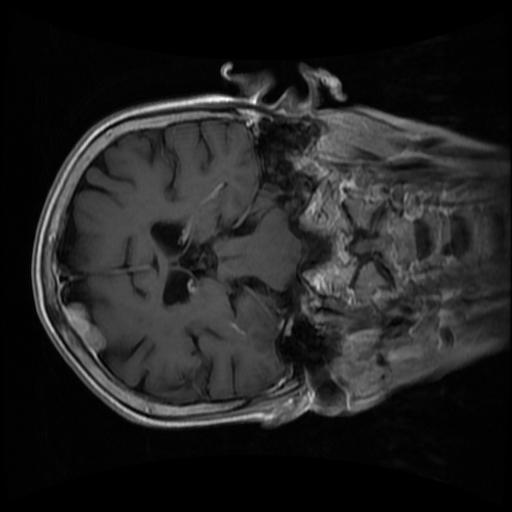meningioma: (64, 302, 106, 353)
